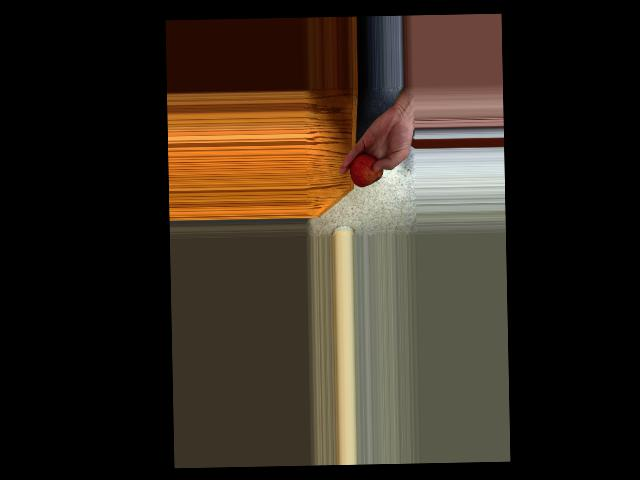apple: (349, 151, 387, 188)
